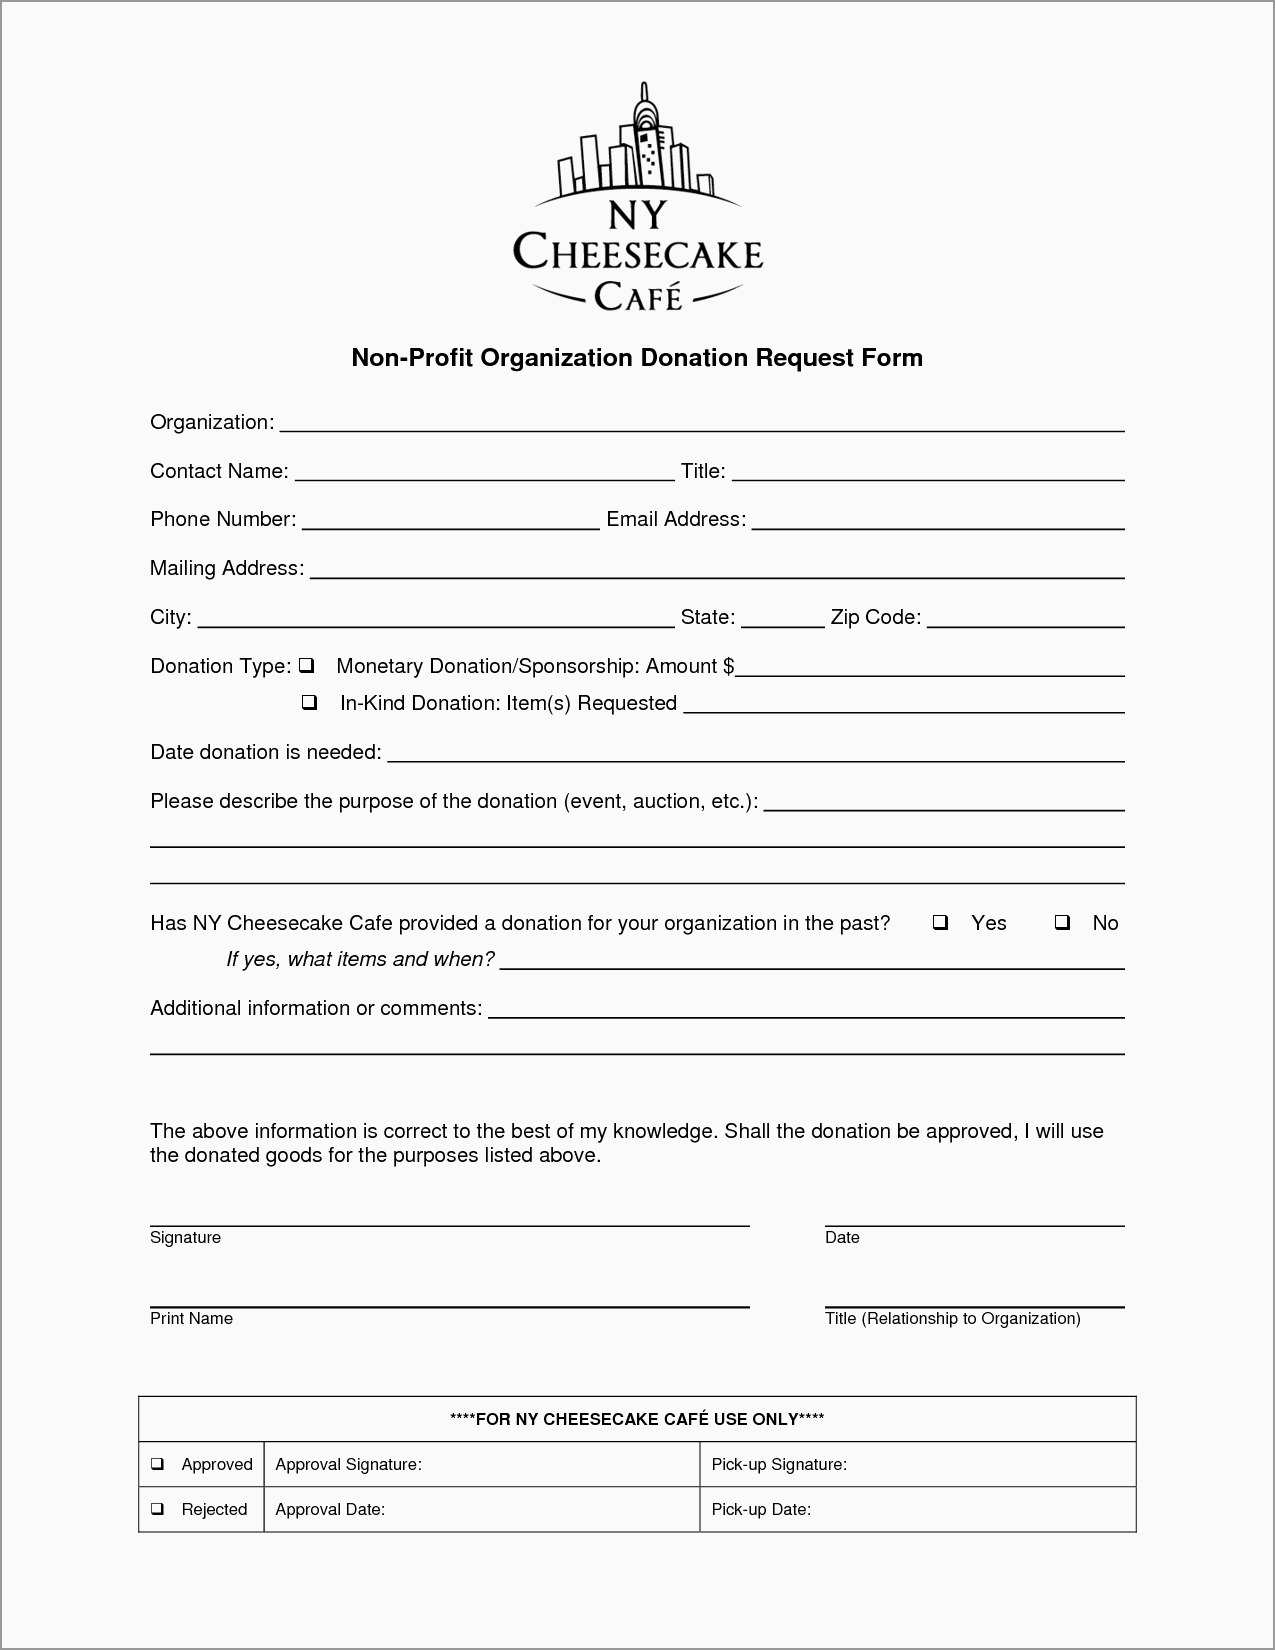checkbox: (924, 909, 955, 933), (297, 650, 321, 676), (297, 691, 321, 717), (145, 1448, 167, 1475), (1046, 913, 1073, 933), (145, 1497, 166, 1521)
textbox: (692, 1434, 1141, 1497), (694, 1484, 1142, 1546), (258, 1436, 708, 1496), (256, 1483, 707, 1540)
textline: (275, 396, 1133, 443), (304, 541, 1136, 587), (146, 854, 1138, 892), (143, 824, 1136, 860), (139, 1184, 761, 1235), (141, 1033, 1141, 1063), (141, 1266, 766, 1312), (382, 733, 1133, 770), (485, 987, 1141, 1025), (494, 942, 1138, 975), (196, 595, 678, 635), (816, 1258, 1134, 1317), (816, 1180, 1126, 1233), (746, 496, 1133, 538), (676, 687, 1133, 723), (737, 646, 1133, 684), (726, 451, 1134, 489), (758, 779, 1130, 818), (292, 453, 678, 489), (297, 494, 607, 536), (917, 592, 1136, 635), (737, 592, 836, 635)
